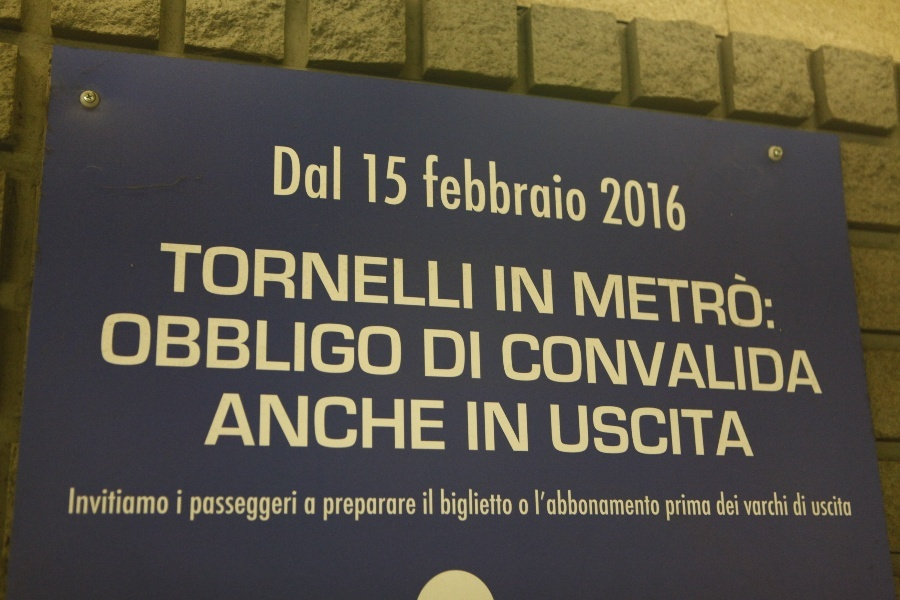text: (433, 146, 448, 229), (449, 146, 464, 229), (465, 146, 480, 229), (481, 146, 496, 229), (497, 146, 512, 229), (513, 146, 528, 229), (529, 146, 544, 229), (545, 146, 560, 229), (561, 146, 576, 229), (161, 239, 176, 317), (177, 239, 192, 317), (193, 239, 208, 317), (209, 239, 224, 317), (225, 239, 240, 317), (241, 239, 256, 317), (257, 239, 272, 317), (273, 239, 288, 317), (289, 239, 304, 317), (305, 239, 320, 317), (321, 239, 336, 317), (337, 239, 352, 317), (353, 239, 368, 317), (369, 239, 384, 317), (385, 239, 400, 317), (401, 239, 416, 317), (417, 239, 432, 317), (433, 239, 448, 317), (449, 239, 464, 317), (465, 239, 479, 317), (419, 146, 432, 229), (273, 140, 288, 209), (289, 140, 304, 209), (305, 140, 320, 209), (321, 140, 336, 209), (369, 146, 384, 215), (385, 146, 400, 215), (609, 169, 624, 236), (625, 169, 640, 236), (641, 169, 656, 236), (657, 169, 672, 236), (673, 169, 688, 236), (577, 264, 592, 331), (593, 264, 608, 331), (609, 264, 624, 331), (625, 264, 640, 331), (641, 264, 656, 331), (657, 264, 672, 331), (673, 264, 688, 331), (689, 264, 704, 331), (705, 264, 720, 331), (721, 264, 736, 331), (737, 264, 752, 331), (753, 264, 768, 331), (577, 146, 589, 229), (113, 311, 128, 377), (129, 311, 144, 377), (145, 311, 160, 377), (161, 311, 176, 377), (177, 311, 192, 377), (193, 311, 208, 377), (209, 311, 224, 377), (225, 311, 240, 377), (241, 311, 256, 377), (257, 311, 272, 377), (273, 311, 288, 377), (289, 311, 304, 377), (305, 311, 320, 377), (321, 311, 336, 377), (337, 311, 352, 377), (353, 311, 368, 377), (369, 311, 384, 377), (385, 311, 400, 377), (513, 332, 528, 398), (529, 332, 544, 398), (545, 332, 560, 398), (561, 332, 576, 398), (577, 332, 592, 398), (593, 332, 608, 398), (609, 332, 624, 398), (625, 332, 640, 398), (641, 332, 656, 398), (657, 332, 672, 398), (673, 332, 688, 398), (689, 332, 704, 398), (705, 332, 720, 398), (721, 332, 736, 398), (737, 332, 752, 398), (753, 332, 768, 398), (769, 332, 784, 398), (785, 332, 800, 398), (801, 332, 816, 398), (225, 389, 240, 455), (241, 389, 256, 455), (257, 389, 272, 455), (273, 389, 288, 455), (289, 389, 304, 455), (305, 389, 320, 455), (321, 389, 336, 455), (337, 389, 352, 455), (353, 389, 368, 455), (369, 389, 384, 455), (385, 389, 400, 455), (401, 389, 416, 455), (417, 389, 432, 455), (433, 389, 448, 455), (561, 401, 576, 462), (577, 401, 592, 462), (593, 401, 608, 462), (609, 401, 624, 462), (625, 401, 640, 462), (641, 401, 656, 462), (657, 401, 672, 462), (673, 401, 688, 462), (689, 401, 704, 462), (705, 401, 720, 462), (721, 401, 736, 462), (737, 401, 752, 462), (465, 397, 480, 457), (481, 397, 496, 457), (497, 397, 512, 457), (513, 397, 528, 457), (433, 326, 448, 385), (449, 326, 464, 385), (465, 326, 480, 385), (497, 262, 512, 319), (513, 262, 528, 319), (529, 262, 544, 319), (547, 401, 560, 462), (100, 311, 112, 377), (500, 332, 512, 398), (817, 332, 829, 398), (401, 146, 412, 215), (769, 264, 780, 331), (337, 140, 347, 209), (598, 169, 608, 236), (545, 262, 556, 319), (422, 326, 432, 385), (449, 486, 464, 525), (465, 486, 480, 525), (481, 486, 496, 525), (497, 486, 512, 525), (360, 146, 368, 215), (193, 488, 208, 524), (209, 488, 224, 524), (225, 488, 240, 524), (241, 488, 256, 524), (257, 488, 272, 524), (273, 488, 288, 524), (673, 491, 688, 524), (689, 491, 704, 524), (753, 401, 761, 462), (753, 489, 768, 520), (769, 489, 784, 520), (81, 487, 96, 517), (97, 487, 112, 517), (113, 487, 128, 517), (129, 487, 144, 517), (145, 487, 160, 517), (545, 489, 560, 519), (561, 489, 576, 519), (577, 489, 592, 519), (593, 489, 608, 519), (609, 489, 624, 519), (625, 489, 640, 519), (641, 489, 656, 519), (721, 490, 736, 520), (177, 488, 192, 517), (337, 496, 352, 524), (353, 496, 368, 524), (369, 496, 384, 524), (385, 496, 400, 524), (401, 496, 416, 524), (739, 489, 752, 520), (570, 264, 576, 331), (322, 496, 336, 524), (305, 494, 320, 520), (438, 486, 448, 525), (529, 397, 535, 457), (289, 488, 299, 524), (817, 495, 832, 519), (833, 495, 848, 519), (69, 487, 80, 517), (533, 489, 544, 519), (789, 490, 800, 520), (156, 239, 160, 317), (422, 487, 432, 518), (161, 487, 171, 517), (481, 326, 486, 385), (268, 140, 272, 209), (401, 311, 405, 377), (664, 491, 672, 524), (705, 491, 713, 524), (801, 490, 809, 520), (689, 169, 692, 236), (518, 498, 528, 518), (221, 389, 224, 455), (785, 489, 791, 520), (657, 489, 663, 519), (714, 490, 720, 520), (493, 262, 496, 319), (809, 495, 816, 519), (737, 490, 741, 520), (849, 495, 854, 519), (433, 487, 436, 518), (190, 488, 192, 524), (513, 486, 514, 525), (417, 496, 418, 524), (529, 498, 530, 518)
